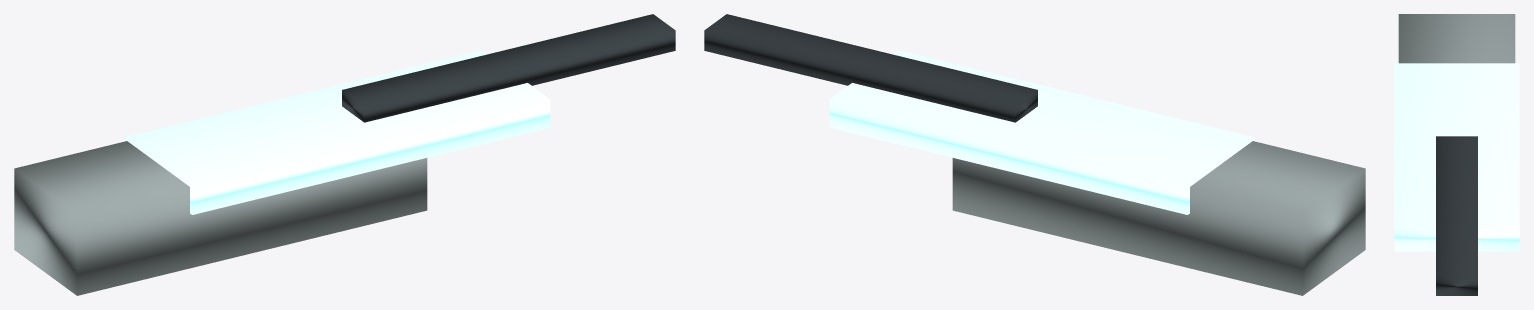
Rendered from weapon-rail-lod2.glb.
The picture shows the model from 3 angles, left to right: view 1: azimuth 30°, elevation 25°; view 2: azimuth 150°, elevation 25°; view 3: azimuth 270°, elevation 25°; orthographic projection. The views are drawn at different scales.
Parts seen in each view (by area): view 1: rail-receiver, rail-coil, rail-spine; view 2: rail-receiver, rail-coil, rail-spine; view 3: rail-coil, rail-spine, rail-receiver.
Boxes of the visible parts, x1,y1,x2,y2 form: rail-receiver: (14,141,427,295); rail-coil: (125,50,550,214); rail-spine: (342,14,675,122); rail-receiver: (952,141,1365,295); rail-coil: (829,50,1254,214); rail-spine: (704,14,1037,122); rail-coil: (1394,63,1519,251); rail-spine: (1436,136,1477,295); rail-receiver: (1398,14,1515,63).
Bounding box in the file's own units: 1.59 × 0.245 × 0.3.
